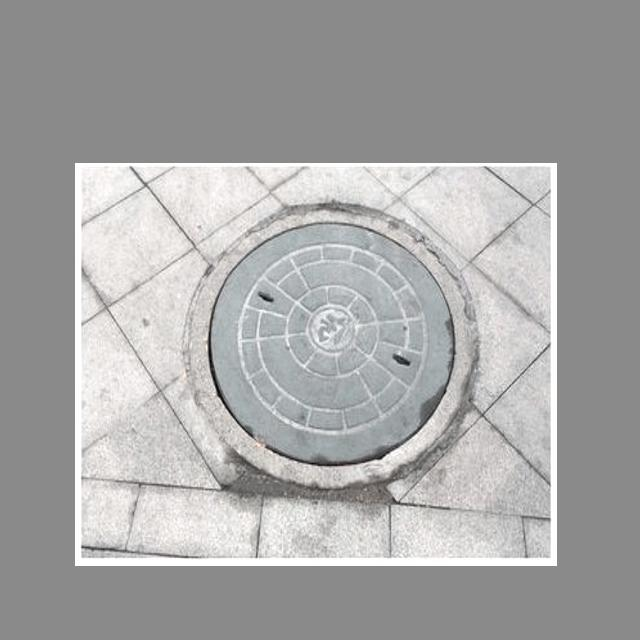good: (171, 188, 485, 504)
